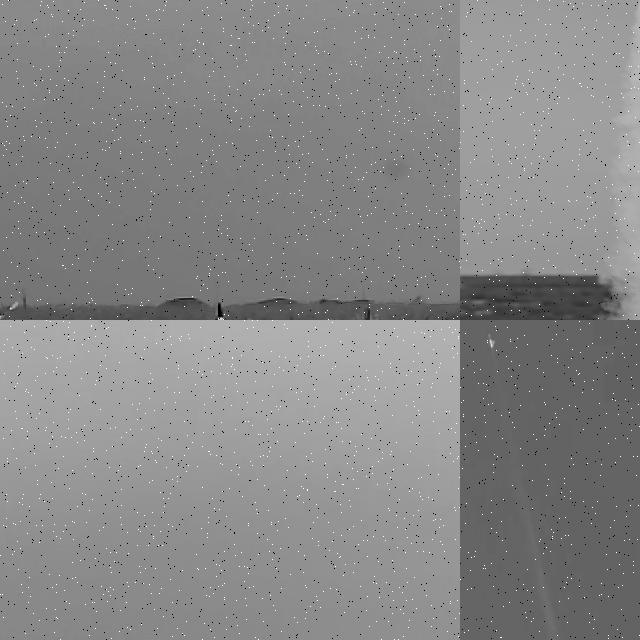Rocket: (209, 301, 235, 320), (488, 334, 496, 349)
